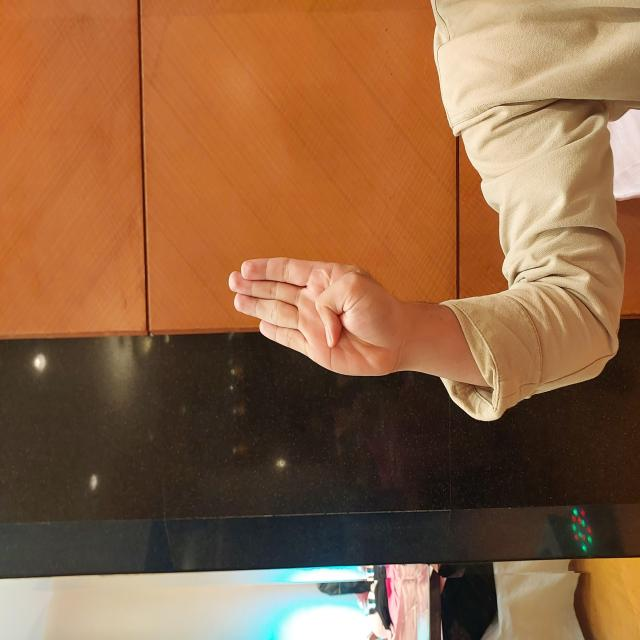B: (263, 228, 384, 404)
